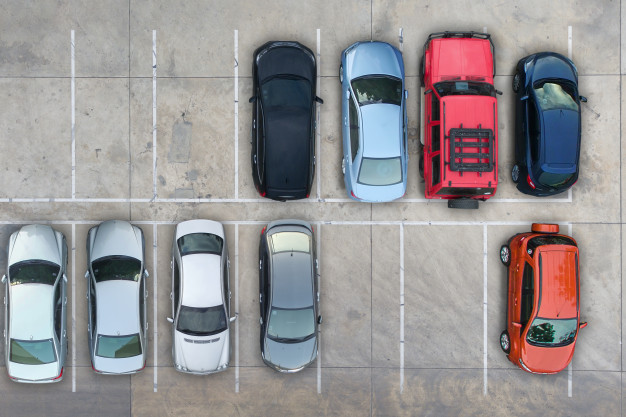car: (414, 27, 501, 210), (499, 222, 586, 379), (247, 38, 327, 200), (335, 36, 408, 206), (81, 217, 156, 378), (164, 220, 239, 379), (509, 52, 589, 201), (1, 221, 71, 389), (255, 217, 323, 376)
